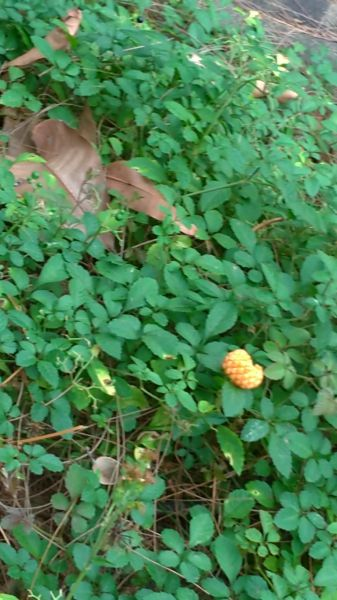eggs: (220, 345, 265, 393)
